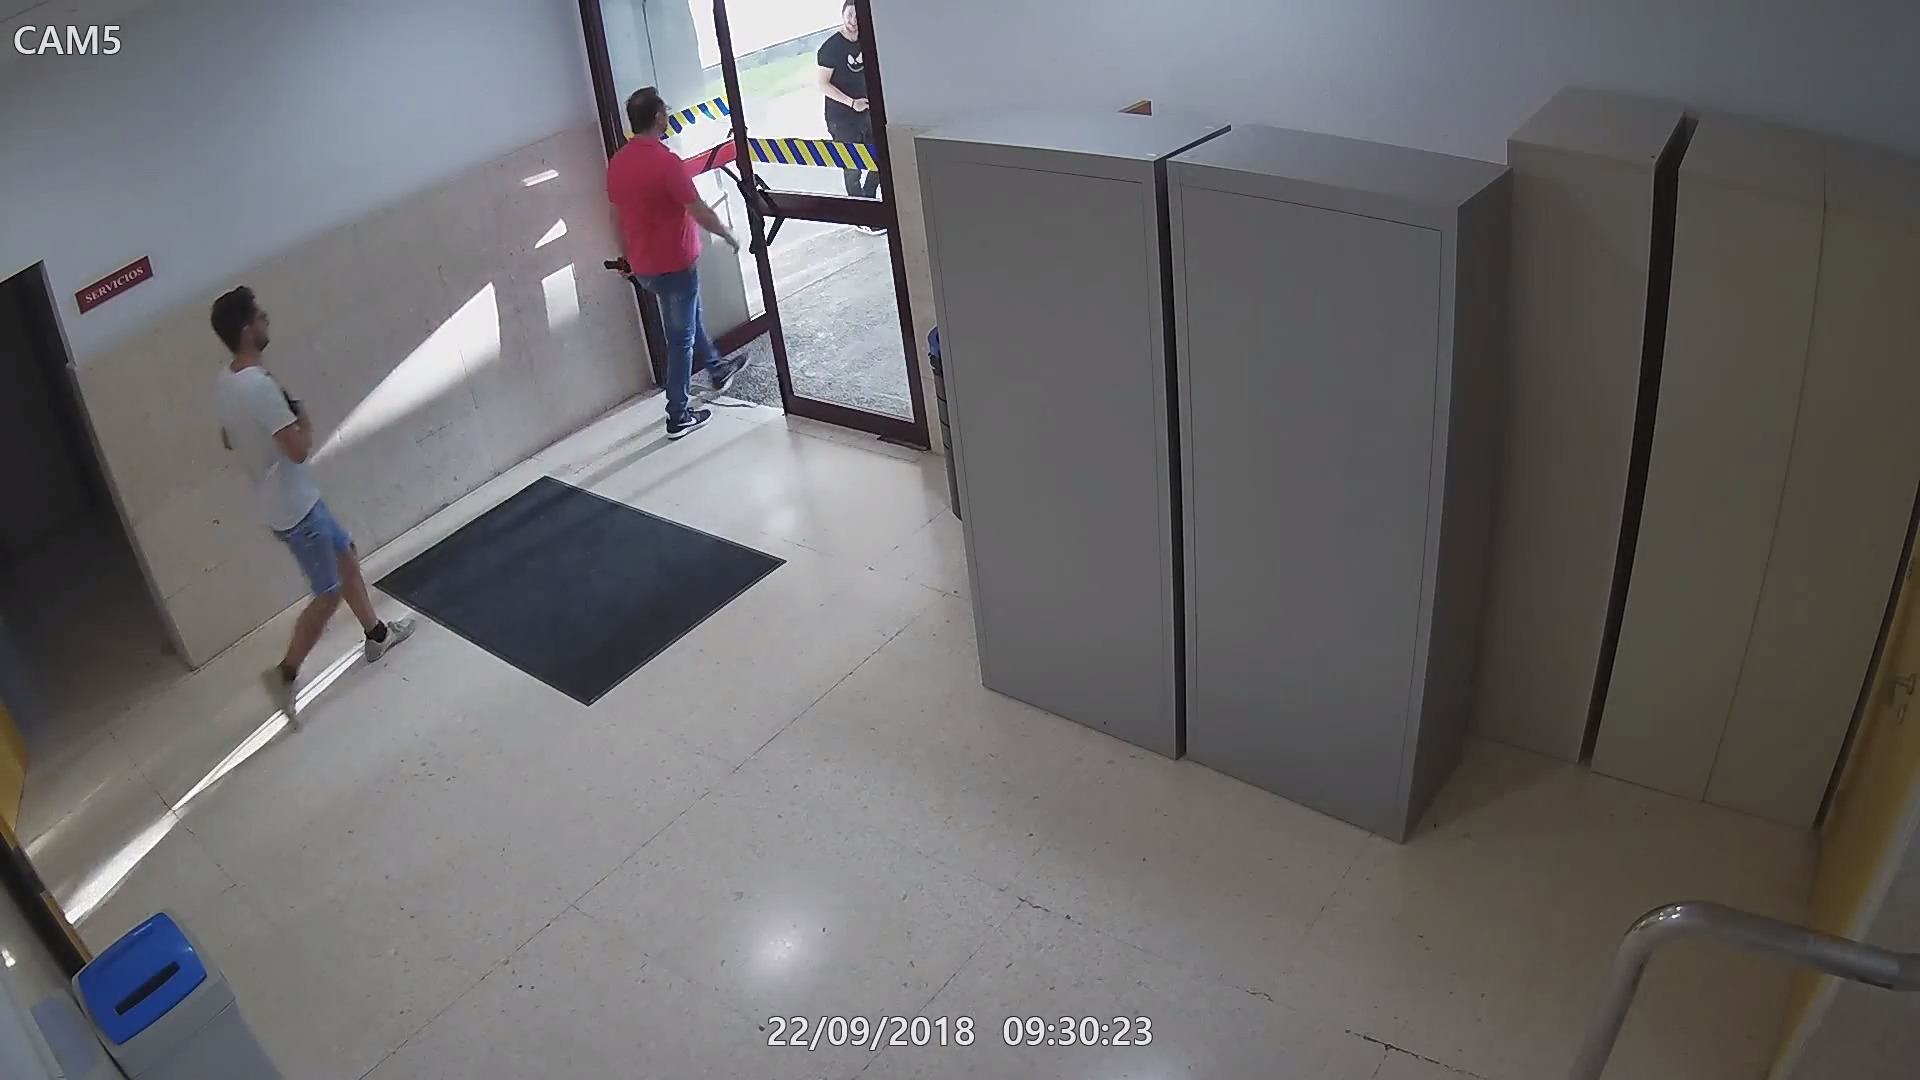pistol: (601, 253, 638, 293)
